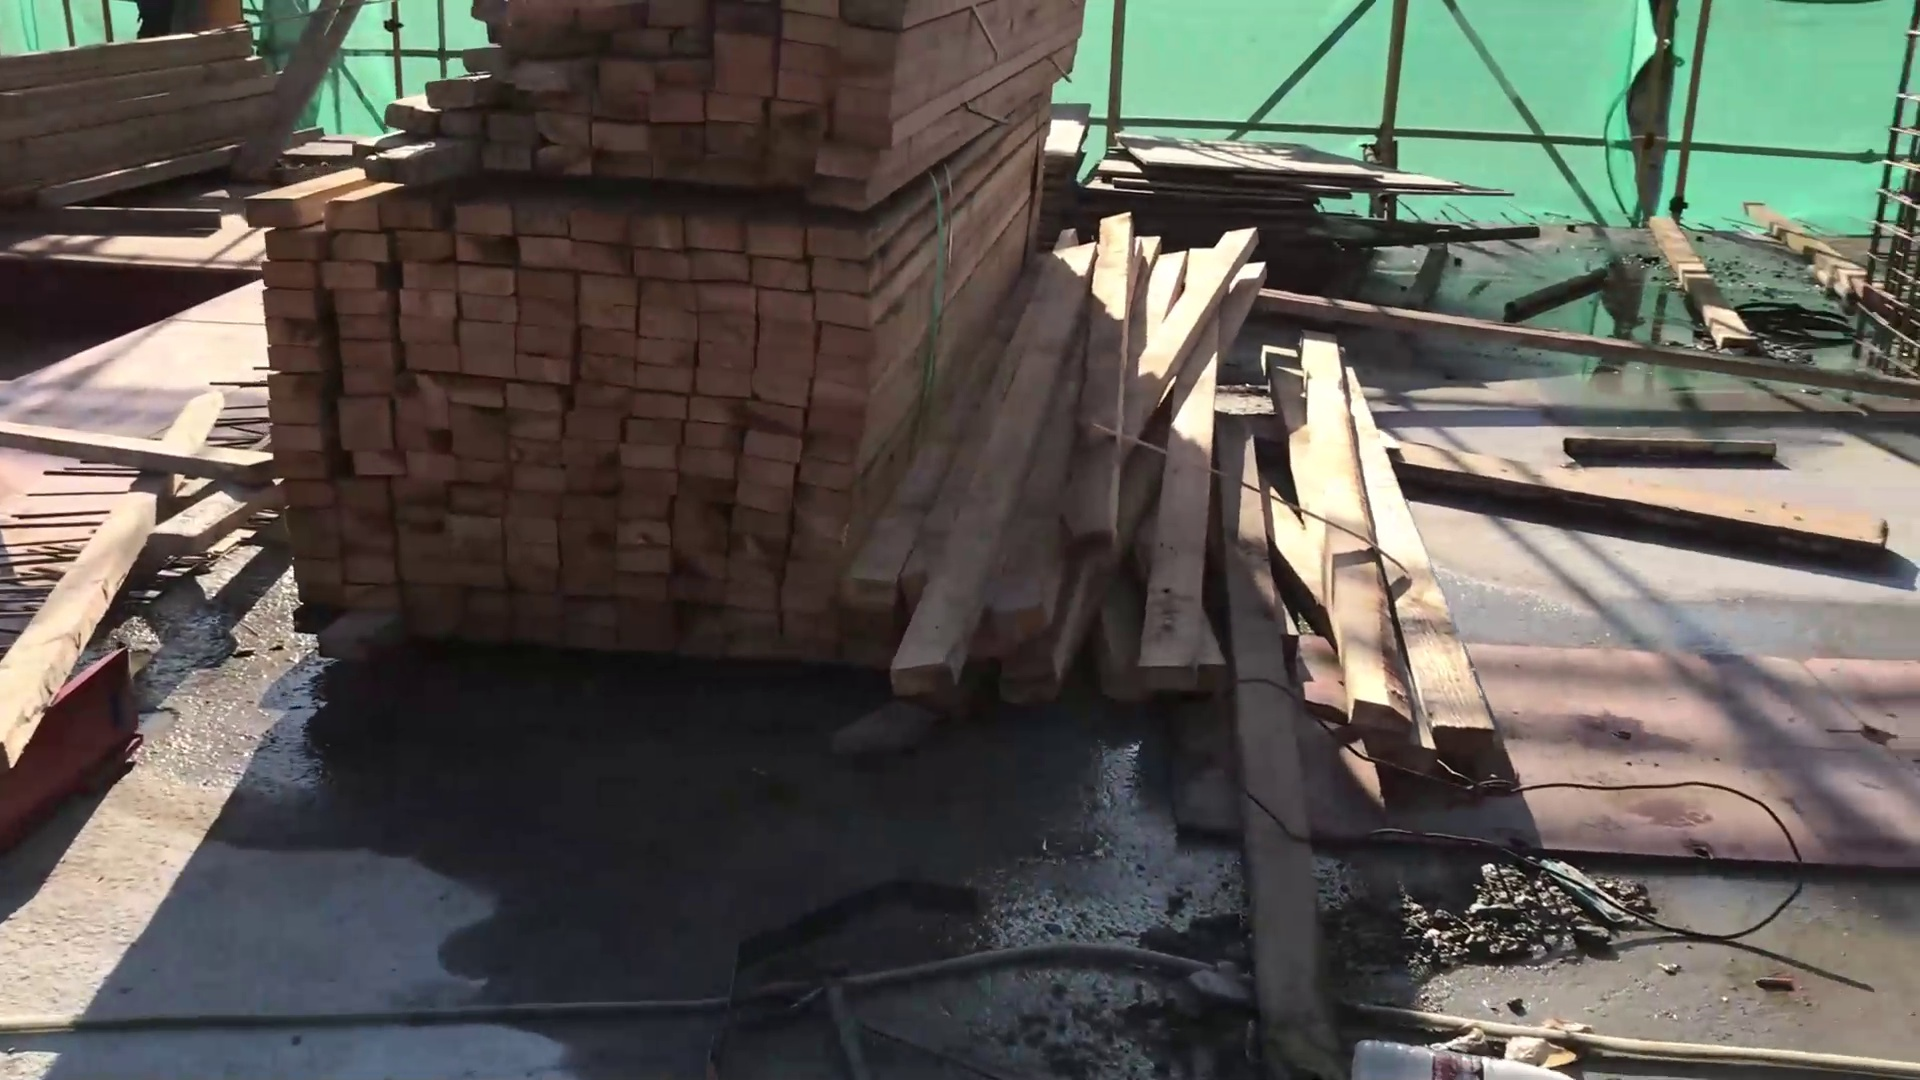wood: (236, 145, 1224, 717), (338, 1, 1105, 222)
